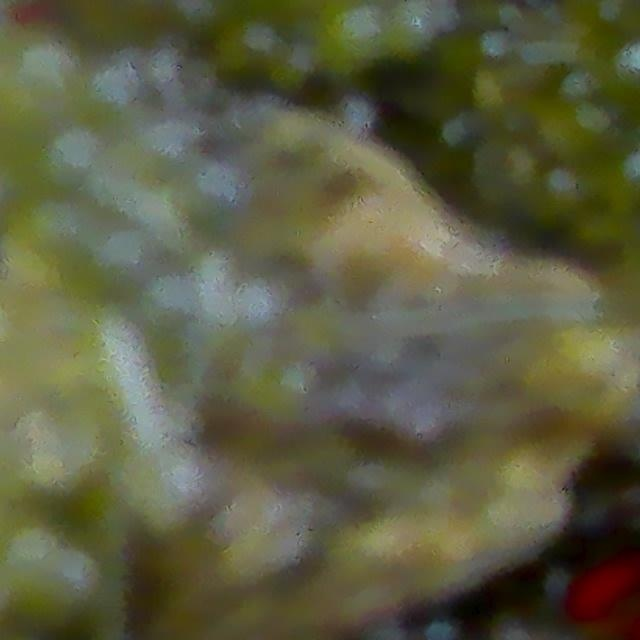SeaGrape: (29, 120, 106, 197), (77, 53, 146, 122), (313, 0, 381, 70)
